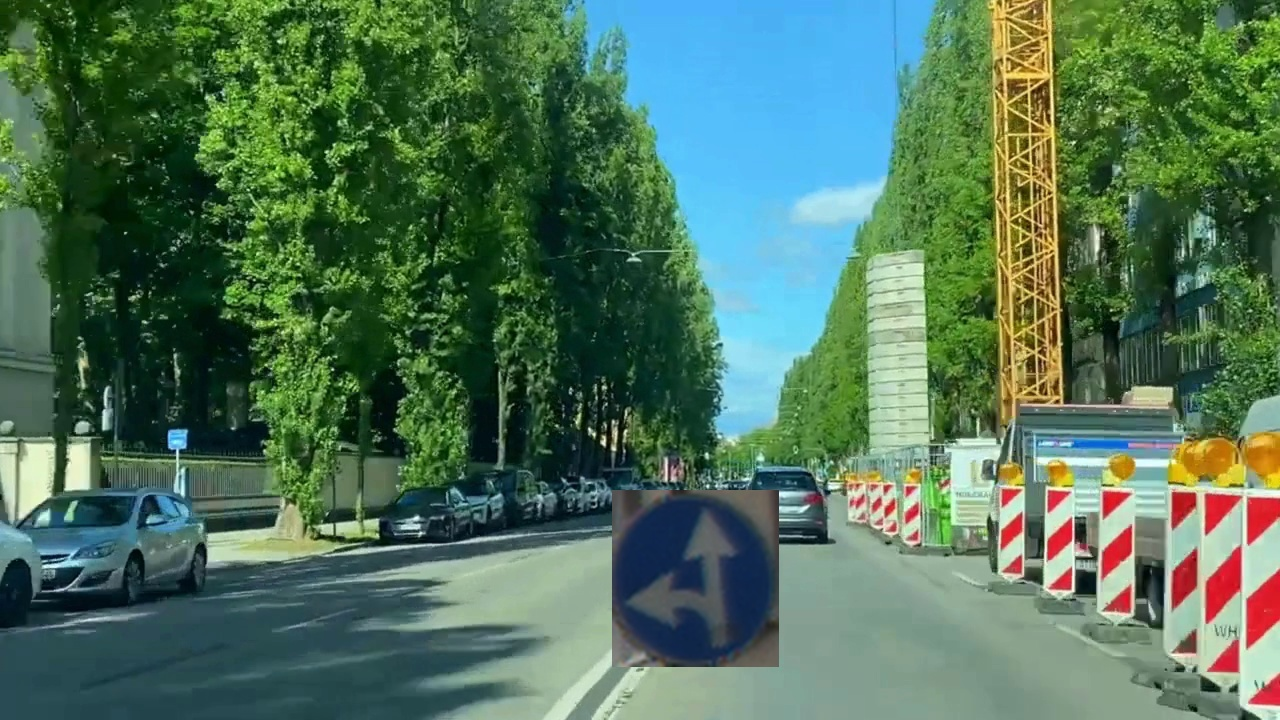Straight/left: (612, 490, 779, 667)
